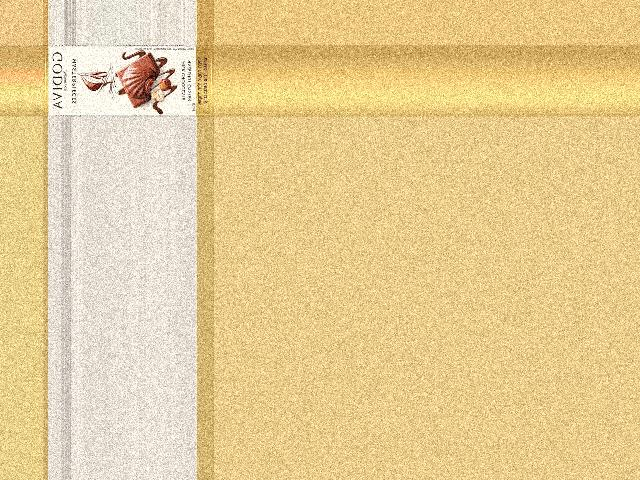chocolate: (43, 46, 213, 116)
